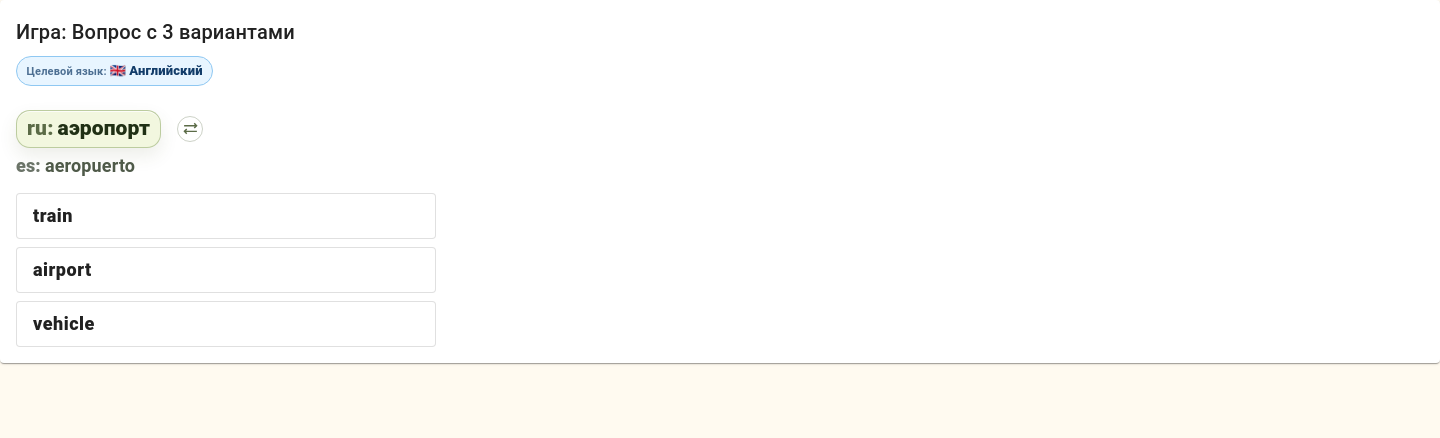
Test: MultipleChoiceExercise › does not repeat the correct answer block after a correct choice
Click the button "airport": (62,270) [16, 247, 436, 293]
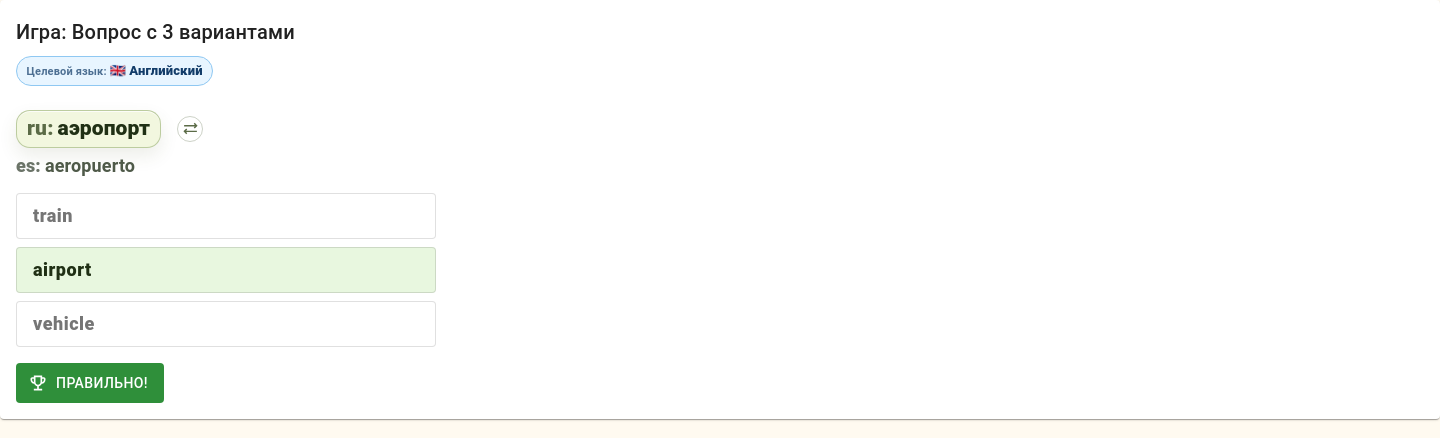
Check: the button "Правильно!" is shown, box [16, 363, 164, 403]
